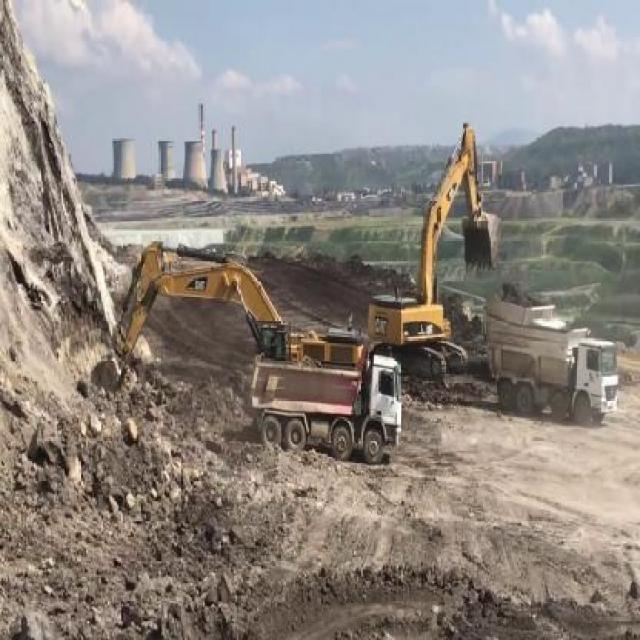Dump Truck: (484, 305, 619, 424), (250, 351, 401, 454)
Excavator: (358, 113, 505, 375), (89, 246, 362, 380)
